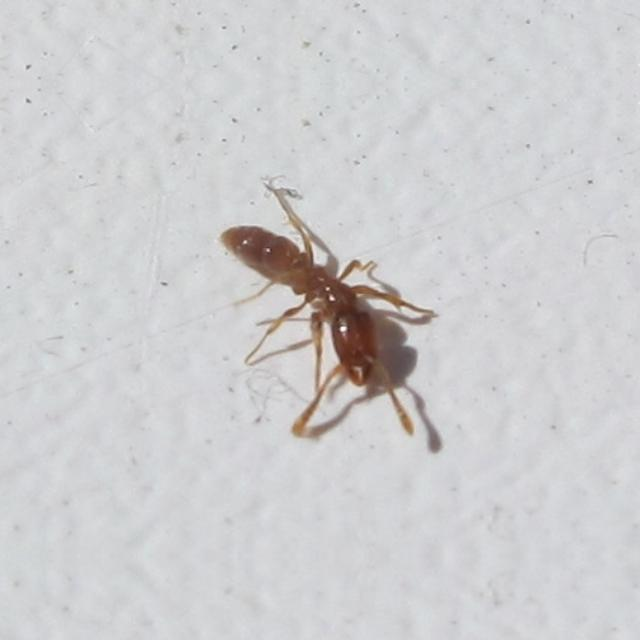Ponera: (197, 172, 397, 438)
